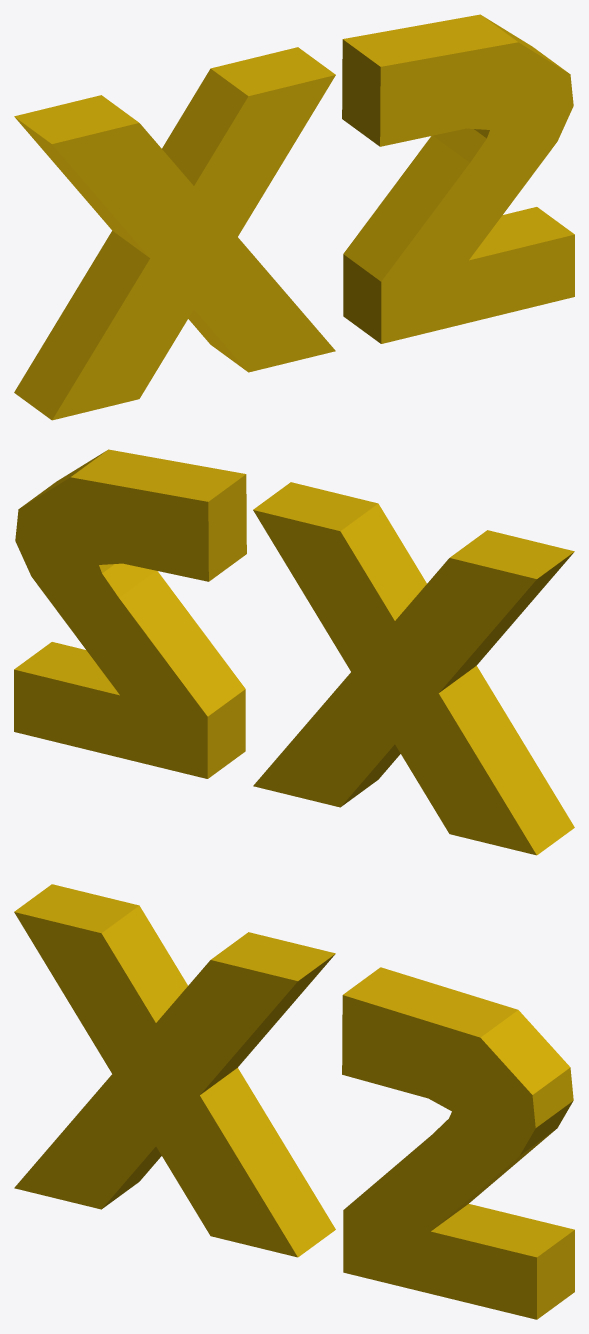
Rendered from x2score.fbx.
3 renders of one model, top to bottom at view 1: azimuth 30°, elevation 25°; view 2: azimuth 150°, elevation 25°; view 3: azimuth 330°, elevation 25°, orthographic.
Parts seen in each view (by area): view 1: Plane; view 2: Plane; view 3: Plane.
Part boxes in pixels (left/top/right/bottom): Plane: left=14, top=14, right=574, bottom=420; Plane: left=14, top=449, right=574, bottom=855; Plane: left=14, top=884, right=574, bottom=1319.
Size of the model in its own units: 758 by 388 by 95.34.
